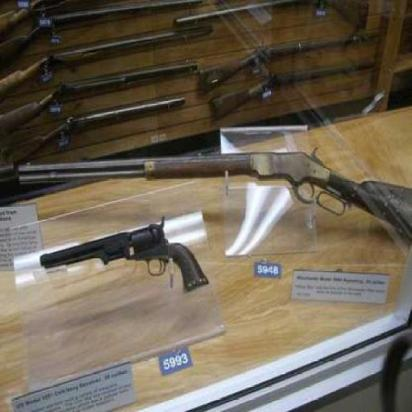Gun: (11, 150, 411, 224)
